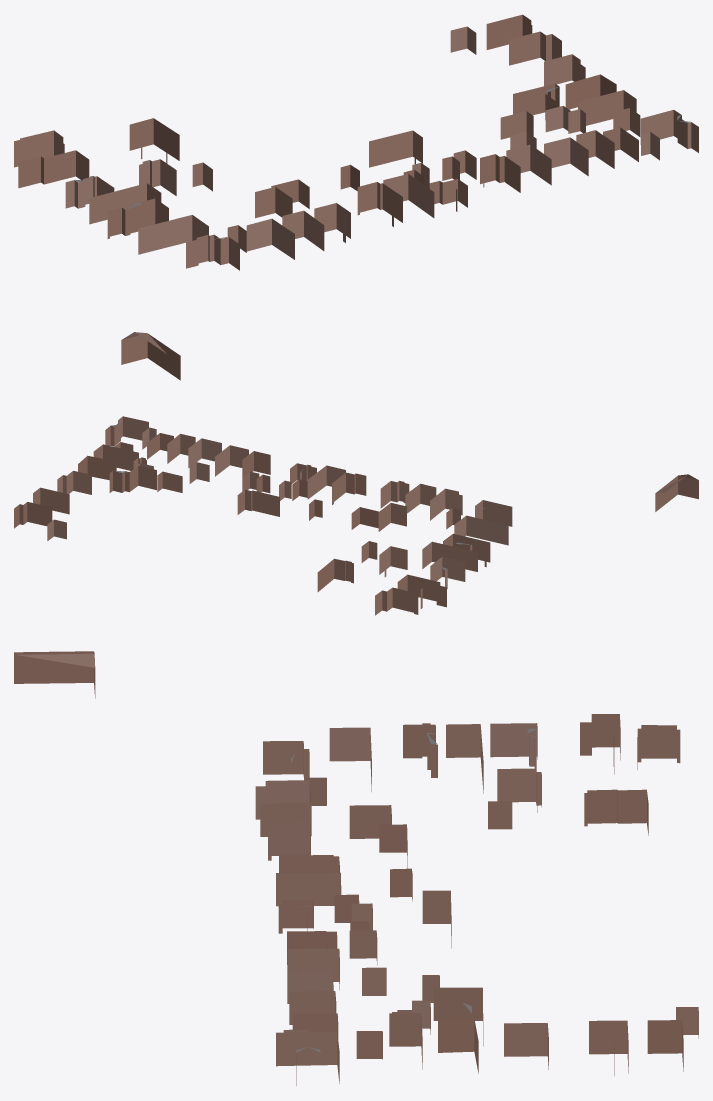
The model's file is c_1639_17830_buildings_residential.glb.
3 renders of one model, top to bottom at view 1: azimuth 30°, elevation 25°; view 2: azimuth 150°, elevation 25°; view 3: azimuth 270°, elevation 25°, orthographic. The views are drawn at different scales.
Visible parts, largest first — view 1: geometry_0; view 2: geometry_0; view 3: geometry_0.
Part boxes in pixels (x1=…): geometry_0: x1=14, y1=14, x2=698, y2=380; geometry_0: x1=14, y1=416, x2=698, y2=615; geometry_0: x1=14, y1=651, x2=698, y2=1085.
Bounding box in the file's own units: 246 × 10.68 × 176.
